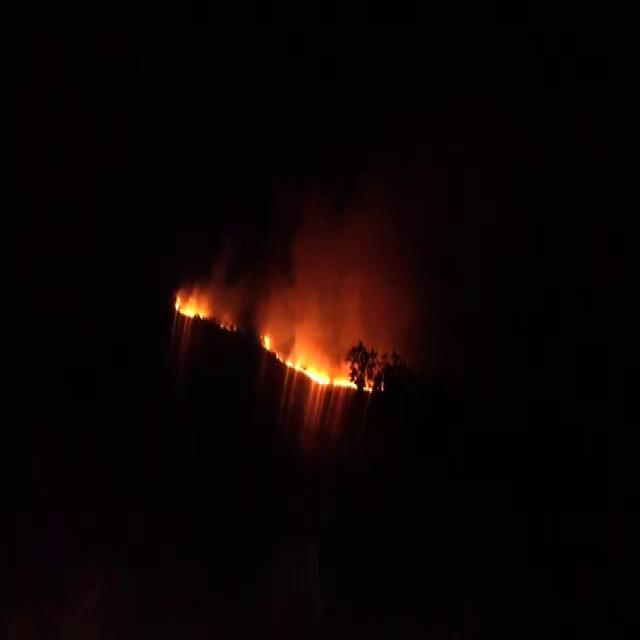Fire: (262, 330, 329, 384), (174, 290, 207, 322), (331, 375, 362, 389)
Smoke: (274, 198, 412, 326)
